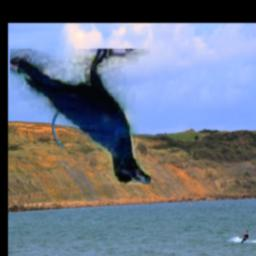Crow: (10, 49, 151, 184)
